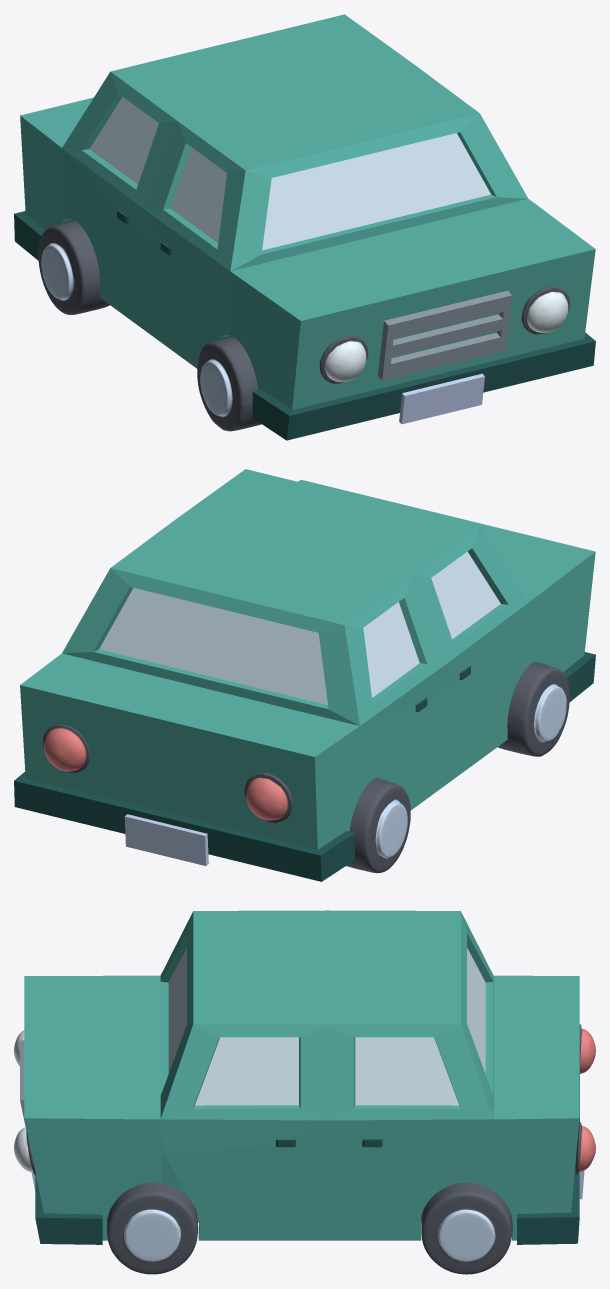
The model's file is mint_car.fbx.
3 renders of one model, top to bottom at view 1: azimuth 30°, elevation 25°; view 2: azimuth 150°, elevation 25°; view 3: azimuth 270°, elevation 25°, orthographic.
Visible parts, largest first — view 1: car, wheels, plate; view 2: car, wheels, plate; view 3: car, wheels, plate.
Part boxes in pixels (left/top/right/bottom): car: left=14, top=14, right=595, bottom=440; wheels: left=38, top=220, right=570, bottom=431; plate: left=378, top=290, right=512, bottom=424; car: left=14, top=469, right=595, bottom=881; wheels: left=43, top=662, right=569, bottom=873; plate: left=124, top=814, right=208, bottom=865; car: left=24, top=910, right=579, bottom=1244; wheels: left=14, top=1024, right=595, bottom=1274; plate: left=20, top=1040, right=584, bottom=1199.
Size of the model in its own units: 235 by 154 by 353.
